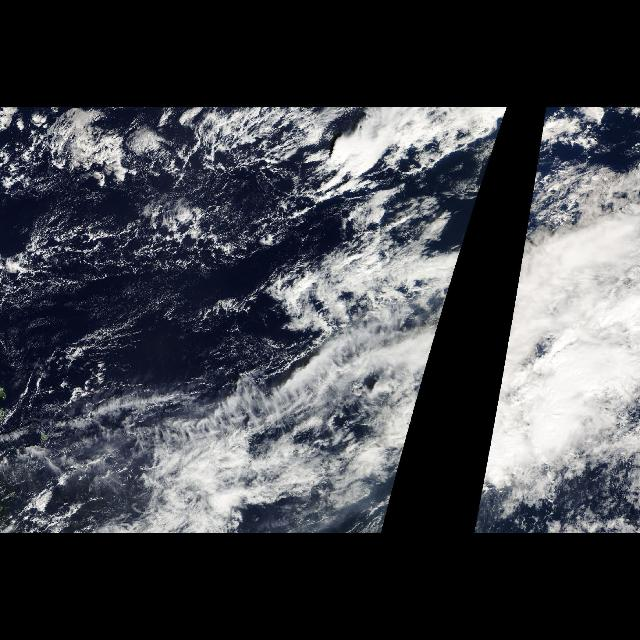Gravel: (1, 142, 423, 330)
